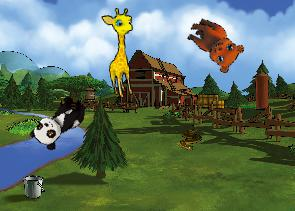bear: (178, 14, 248, 76)
giraffe: (100, 6, 144, 99)
panda: (27, 89, 91, 154)
